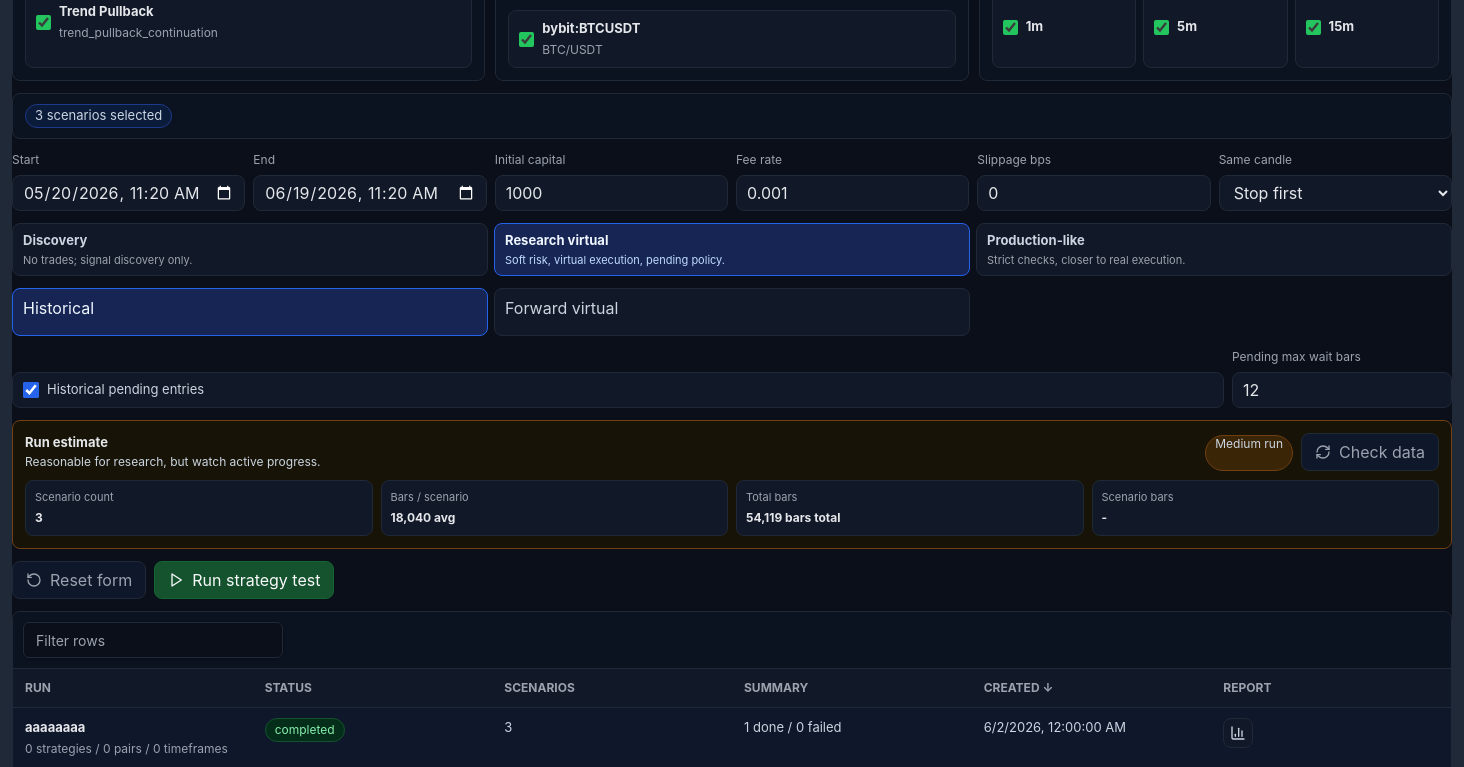
Test: StrategyTestingPanel › renders selected completed zero-trade run instead of an empty report state
(page scrolled)
Click the button named "Open report for run aaaaaaaa-aaaa-4aaa-8aaa-aaaaaaaaaaaa".
click(1238, 733)  # box [1223,718,1253,748]
(page scrolled)
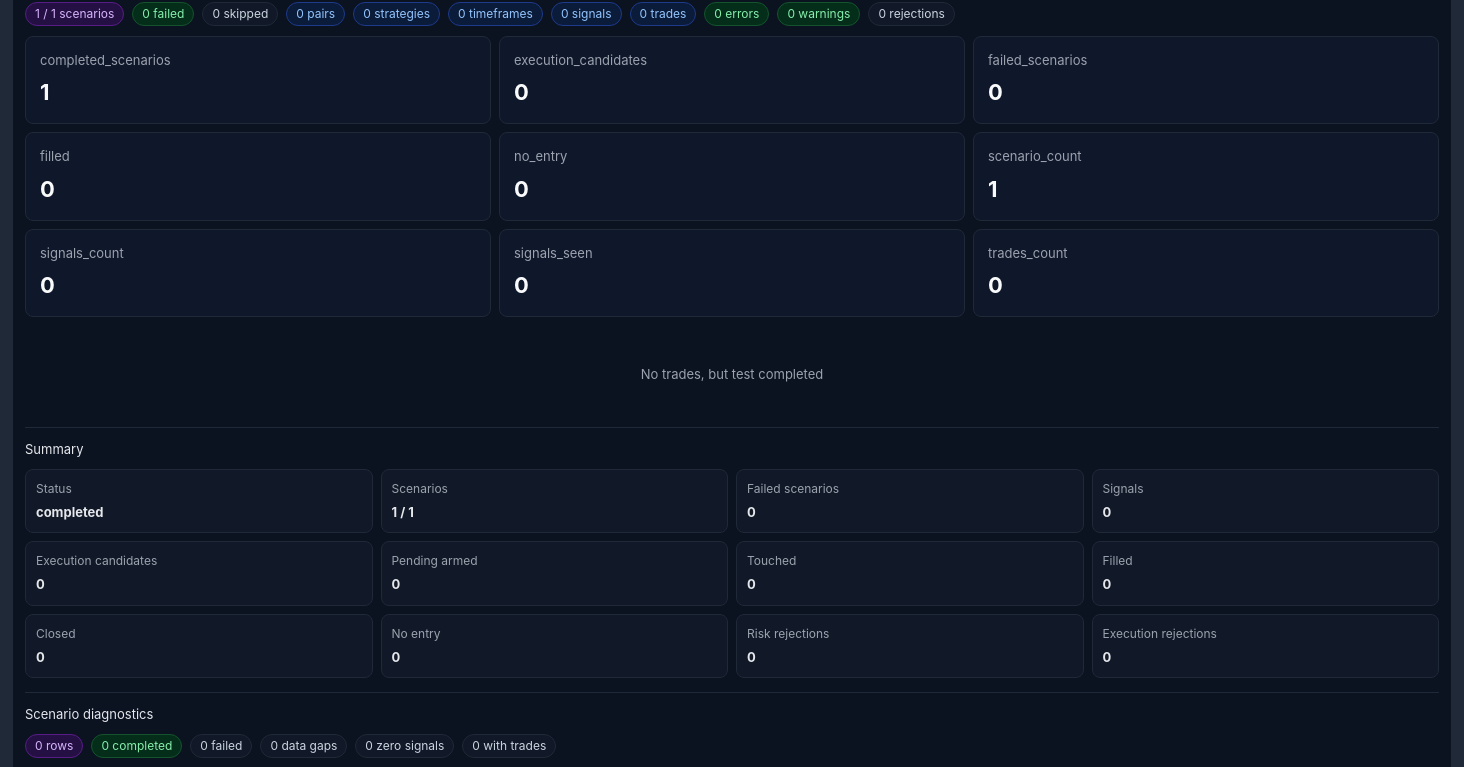
Expected: the text "No trades, but test completed" is shown, [641,366,823,382]
